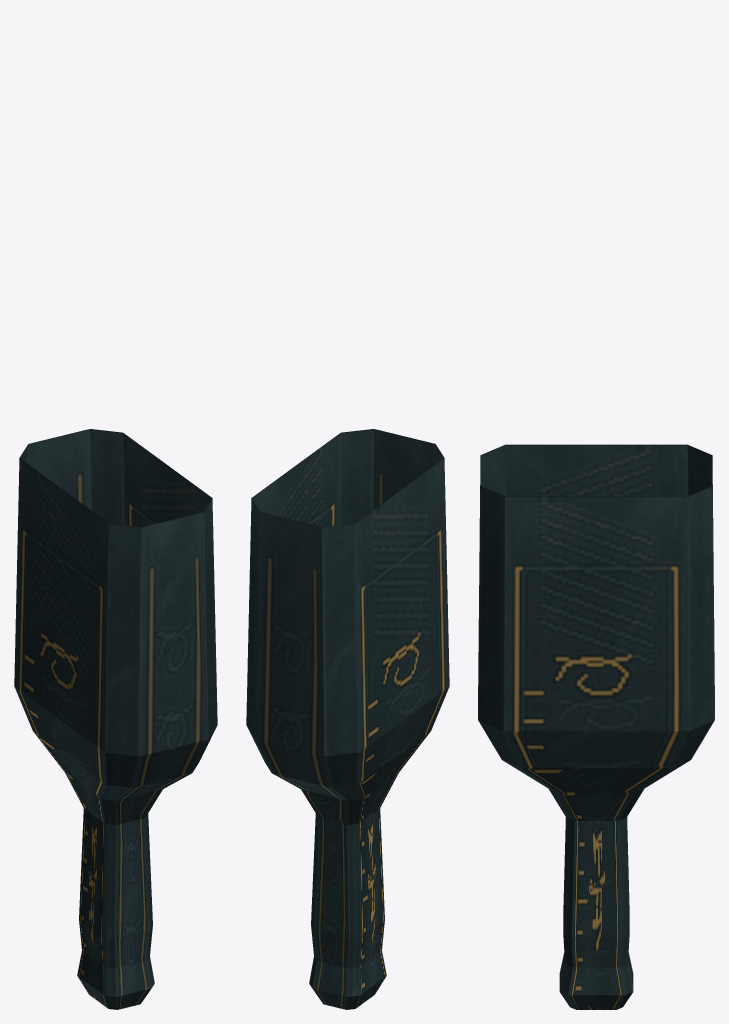
The model's file is zhenyue_ruler.obj.
The picture shows the model from 3 angles, left to right: view 1: azimuth 30°, elevation 25°; view 2: azimuth 150°, elevation 25°; view 3: azimuth 270°, elevation 25°; orthographic projection. The views are drawn at different scales.
Parts seen in each view (by area): view 1: geometry; view 2: geometry; view 3: geometry.
Boxes of the visible parts, left/top/right/bottom form: geometry: left=14, top=429, right=217, bottom=1009; geometry: left=246, top=429, right=449, bottom=1009; geometry: left=478, top=444, right=714, bottom=1009.
Bounding box in the file's own units: 0.225 × 1.81 × 0.4.
